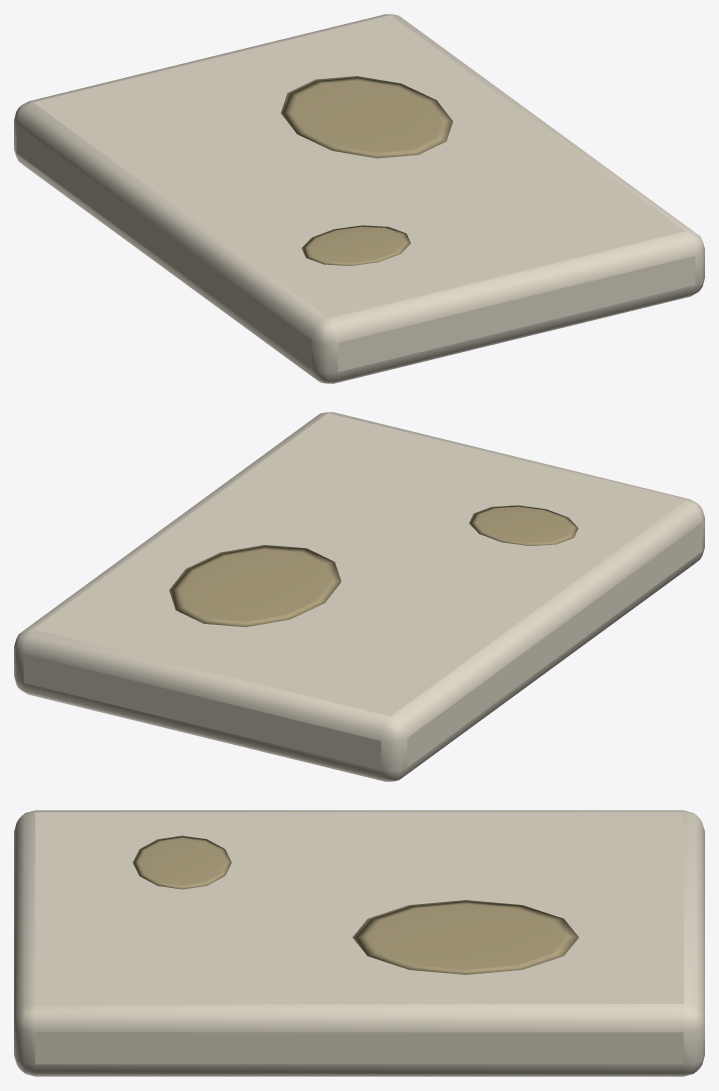
Rendered from mattress.fbx.
3 views of the same model, one above another, from view 1: azimuth 30°, elevation 25°; view 2: azimuth 150°, elevation 25°; view 3: azimuth 270°, elevation 25° (orthographic). The views are drawn at different scales.
Visible parts, largest first — view 1: mattress; view 2: mattress; view 3: mattress.
Part boxes in pixels (x1,y1,x2,y2): mattress: (14,14,704,383); mattress: (14,412,704,781); mattress: (14,810,704,1076).
Size of the model in its own units: 1.4 by 0.226 by 1.95.
